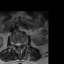CCS_normal: (18, 40, 19, 49)
LFS_normal: (21, 40, 23, 47)
LLS_normal: (19, 40, 21, 48)
RFS_normal: (13, 40, 15, 47)
RLS_normal: (15, 41, 18, 48)
